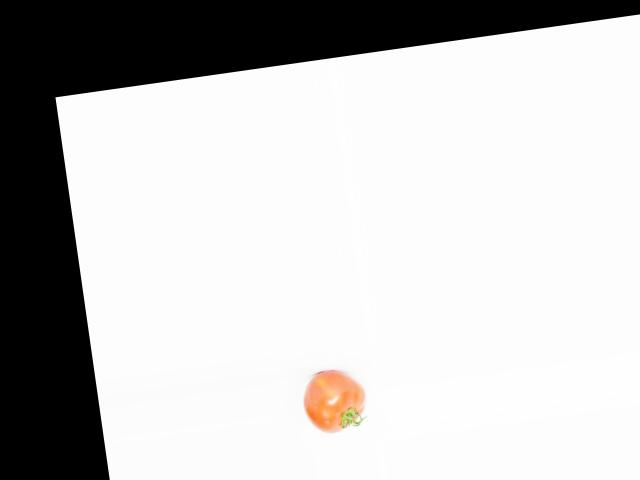tomato: (299, 365, 369, 437)
